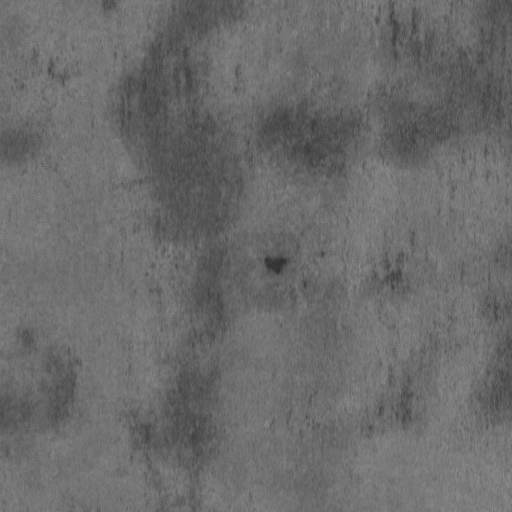aokeng: (260, 255, 290, 275)
